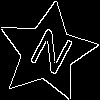N: (22, 27, 76, 84)
